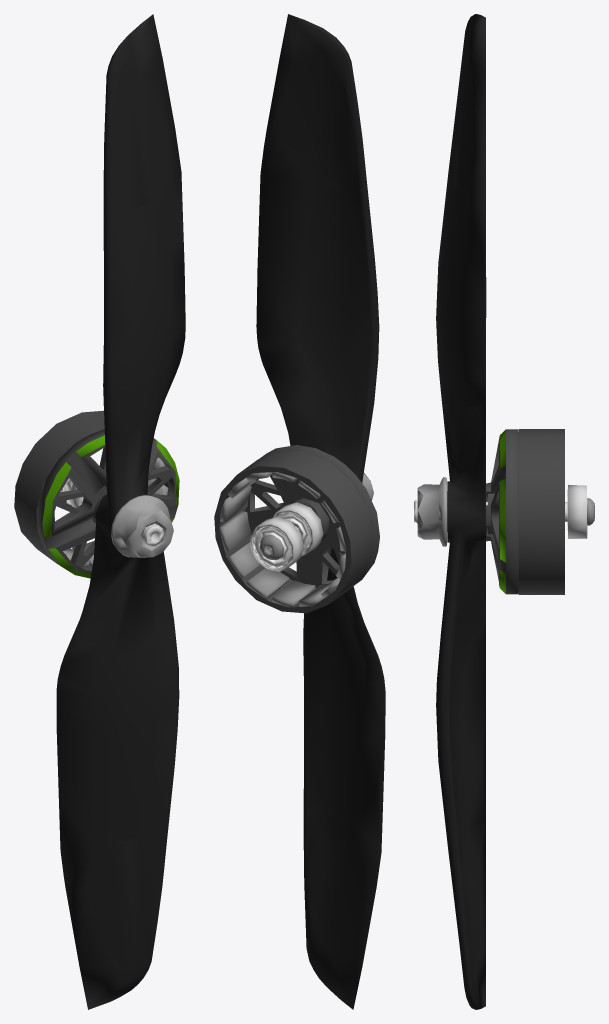
Rendered from vmg.obj.
The picture shows the model from 3 angles, left to right: view 1: azimuth 30°, elevation 25°; view 2: azimuth 150°, elevation 25°; view 3: azimuth 270°, elevation 25°; orthographic projection. The views are drawn at different scales.
Parts seen in each view (by area): view 1: vmg; view 2: vmg; view 3: vmg.
Part boxes in pixels (box(x1,y1,x2,y2)): vmg: box(14, 14, 185, 1009); vmg: box(214, 14, 385, 1009); vmg: box(414, 14, 594, 1009).
Bounding box in the file's own units: 0.0335 × 0.2284 × 0.0367.
